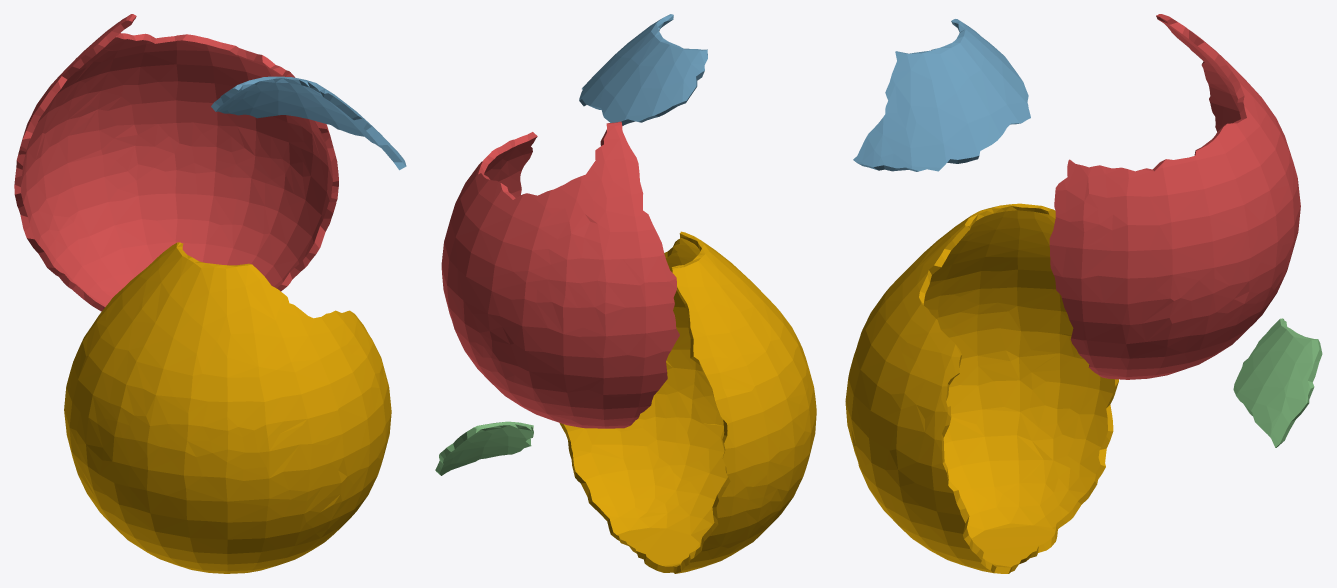
The model's file is fractured_8_4pcs_transformed.glb.
The picture shows the model from 3 angles, left to right: view 1: azimuth 30°, elevation 25°; view 2: azimuth 150°, elevation 25°; view 3: azimuth 270°, elevation 25°; orthographic projection. The views are drawn at different scales.
Parts seen in each view (by area): view 1: piece_0.obj, piece_1.obj, piece_2.obj; view 2: piece_1.obj, piece_0.obj, piece_2.obj, piece_3.obj; view 3: piece_0.obj, piece_1.obj, piece_2.obj, piece_3.obj.
Boxes of the visible parts, box(x1,y1,x2,y2) form: piece_0.obj: box(64, 242, 391, 573); piece_1.obj: box(14, 14, 338, 311); piece_2.obj: box(211, 76, 406, 170); piece_1.obj: box(441, 121, 679, 428); piece_0.obj: box(559, 231, 816, 573); piece_2.obj: box(579, 14, 707, 125); piece_3.obj: box(435, 421, 533, 475); piece_0.obj: box(845, 203, 1118, 573); piece_1.obj: box(1049, 14, 1300, 379); piece_2.obj: box(853, 19, 1030, 171); piece_3.obj: box(1233, 318, 1322, 447).
Bounding box in the file's own units: 0.9657 × 1.6 × 1.33.
